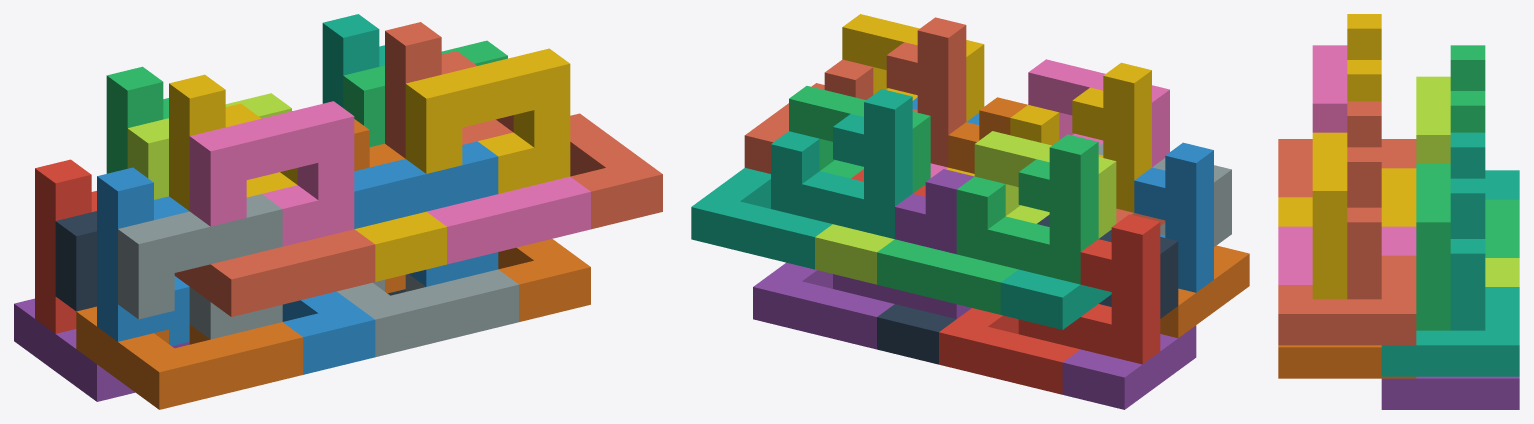
The model's file is tiling.obj.
The picture shows the model from 3 angles, left to right: view 1: azimuth 30°, elevation 25°; view 2: azimuth 150°, elevation 25°; view 3: azimuth 270°, elevation 25°; orthographic projection. The views are drawn at different scales.
Visible parts, largest first — view 1: copy_2_domain_8, copy_2_domain_4, copy_3_domain_2, copy_2_domain_2, copy_3_domain_4, copy_3_domain_6, copy_2_domain_6, copy_3_domain_8, copy_1_domain_2, copy_4_domain_8, copy_1_domain_4, copy_1_domain_1 (+11 smaller); view 2: copy_1_domain_3, copy_1_domain_7, copy_1_domain_1, copy_1_domain_8, copy_1_domain_4, copy_4_domain_7, copy_1_domain_2, copy_4_domain_1, copy_4_domain_5, copy_4_domain_3, copy_1_domain_5, copy_3_domain_1 (+12 smaller); view 3: copy_4_domain_8, copy_4_domain_7, copy_1_domain_7, copy_1_domain_8, copy_2_domain_8, copy_2_domain_7, copy_4_domain_5, copy_4_domain_6, copy_4_domain_4, copy_1_domain_3, copy_2_domain_4, copy_3_domain_4 (+6 smaller).
Boxes of the visible parts, <box> form: copy_2_domain_8: <box>405,48,570,193</box>; copy_2_domain_4: <box>189,101,354,246</box>; copy_3_domain_2: <box>76,306,303,409</box>; copy_2_domain_2: <box>118,194,282,339</box>; copy_3_domain_4: <box>174,229,375,316</box>; copy_3_domain_6: <box>337,269,518,357</box>; copy_2_domain_6: <box>354,141,498,286</box>; copy_3_domain_8: <box>427,176,590,264</box>; copy_1_domain_2: <box>97,167,189,341</box>; copy_4_domain_8: <box>570,113,662,229</box>; copy_1_domain_4: <box>169,74,297,210</box>; copy_1_domain_1: <box>35,159,96,333</box>; copy_1_domain_3: <box>956,134,1098,284</box>; copy_1_domain_7: <box>771,89,912,239</box>; copy_1_domain_1: <box>1018,214,1160,364</box>; copy_1_domain_8: <box>824,17,966,167</box>; copy_1_domain_4: <box>1010,62,1151,212</box>; copy_4_domain_7: <box>691,168,832,269</box>; copy_1_domain_2: <box>1134,142,1213,292</box>; copy_4_domain_1: <box>939,308,1079,394</box>; copy_4_domain_5: <box>753,262,894,349</box>; copy_4_domain_3: <box>877,239,1018,314</box>; copy_1_domain_5: <box>833,169,974,318</box>; copy_3_domain_1: <box>1062,325,1196,409</box>; copy_4_domain_8: <box>1278,255,1416,345</box>; copy_4_domain_7: <box>1381,287,1519,376</box>; copy_1_domain_7: <box>1450,132,1485,316</box>; copy_1_domain_8: <box>1347,101,1381,284</box>; copy_2_domain_8: <box>1312,132,1347,299</box>; copy_2_domain_7: <box>1416,164,1450,330</box>; copy_4_domain_5: <box>1381,376,1519,409</box>; copy_4_domain_6: <box>1278,345,1416,378</box>; copy_4_domain_4: <box>1278,168,1416,226</box>; copy_1_domain_3: <box>1450,45,1485,132</box>; copy_2_domain_4: <box>1312,45,1347,132</box>; copy_3_domain_4: <box>1278,139,1416,197</box>.
Size of the model in its own units: 14 by 8 by 7.
